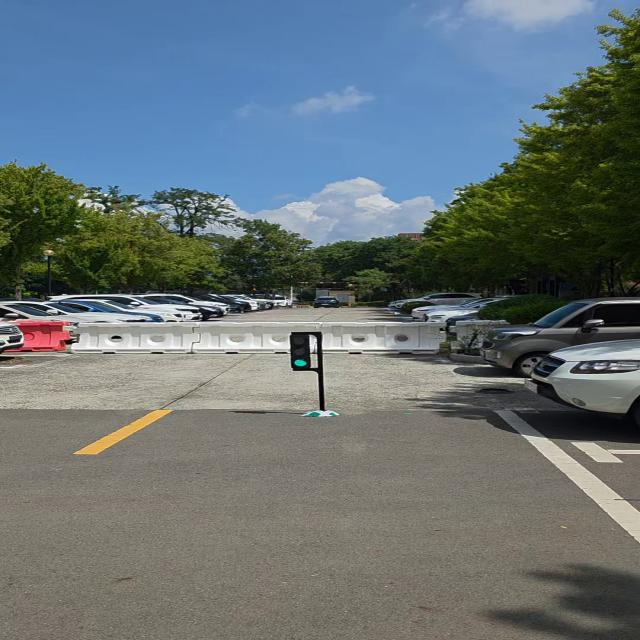green: (290, 331, 316, 371)
